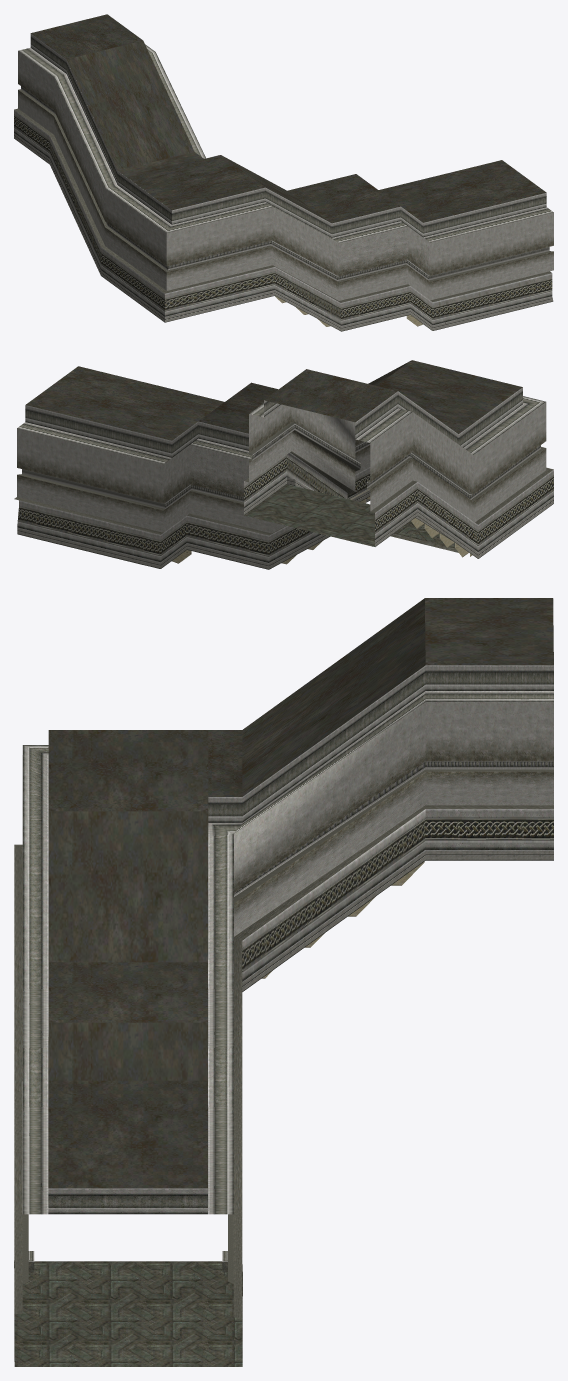
File: DWARF_PALACE_EREBOR_ROOMB01.fbx
The picture shows the model from 3 angles, top to bottom: view 1: azimuth 30°, elevation 25°; view 2: azimuth 150°, elevation 25°; view 3: azimuth 270°, elevation 25°; orthographic projection. The views are drawn at different scales.
Parts seen in each view (by area): view 1: DWARF_PALACE_EREBOR_ROOMB01; view 2: DWARF_PALACE_EREBOR_ROOMB01; view 3: DWARF_PALACE_EREBOR_ROOMB01.
Part boxes in pixels (box(x1,y1,x2,y2)): DWARF_PALACE_EREBOR_ROOMB01: box(14, 14, 553, 331); DWARF_PALACE_EREBOR_ROOMB01: box(14, 360, 553, 569); DWARF_PALACE_EREBOR_ROOMB01: box(14, 598, 553, 1366).
Bounding box in the file's own units: 283220 × 172001 × 189415.
9 materials, 9 textured.
